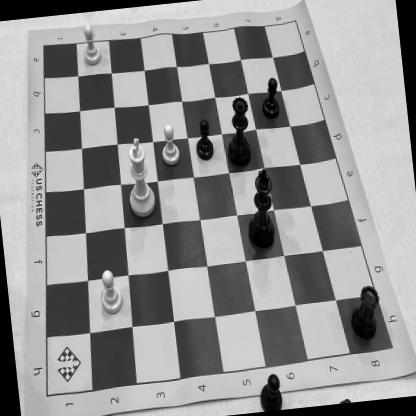king: (238, 165, 282, 254), (118, 132, 158, 222)
pawn: (92, 265, 127, 318), (190, 116, 217, 166), (77, 22, 105, 70), (155, 119, 182, 168), (257, 73, 282, 120)
queen: (221, 87, 254, 171)
rook: (342, 281, 384, 345)
